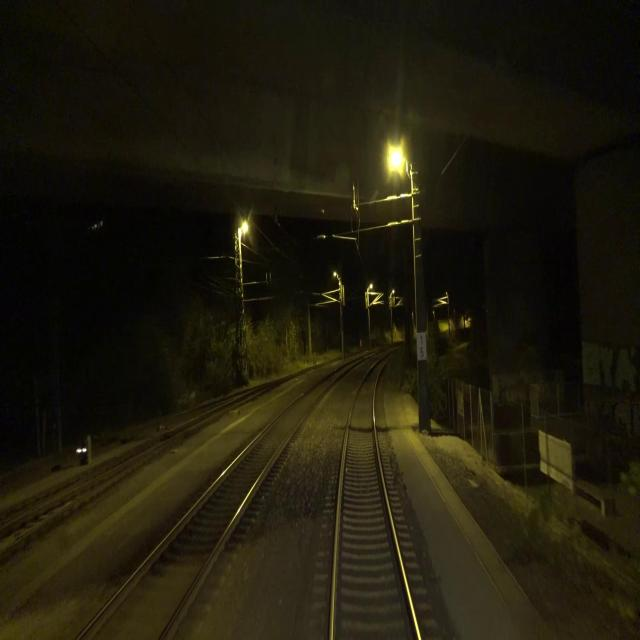rail-track: (83, 370, 342, 639), (335, 359, 416, 639)
